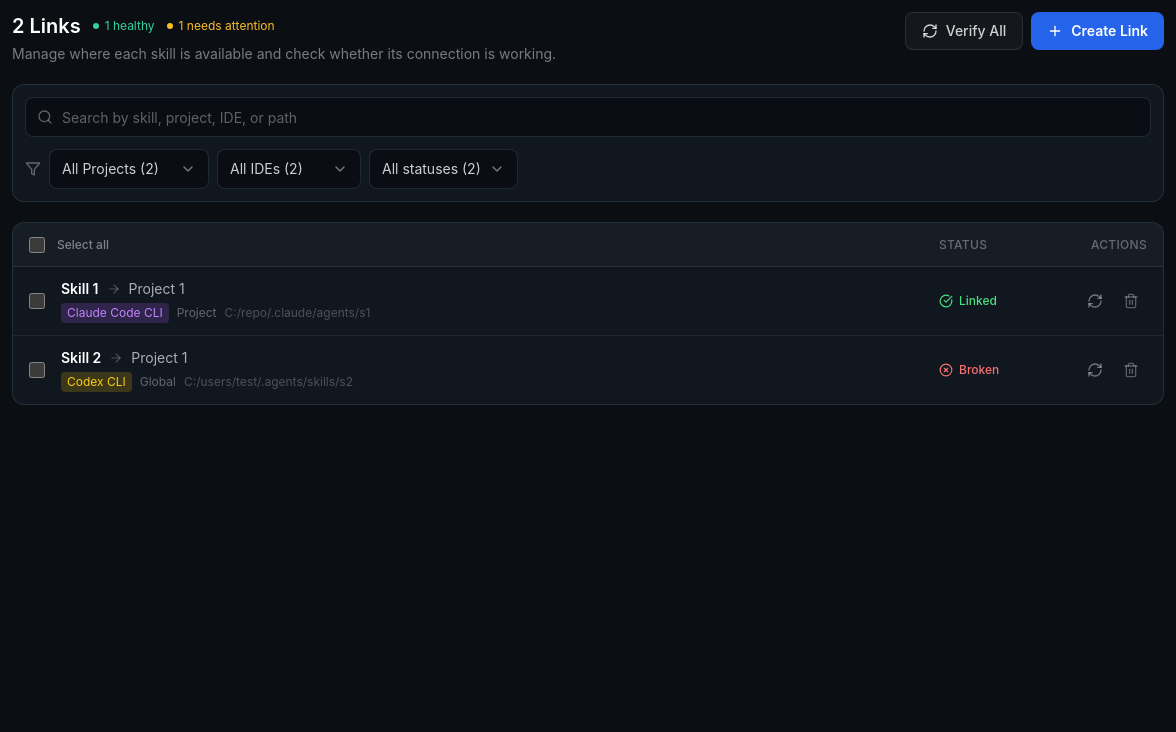
Scenario: LinksPage › loads links and verifies all links with user feedback
Expected: the heading "2 Links" is shown, [12,12,81,40]
Click the button "Verify All": (964, 31) [905,12,1023,50]
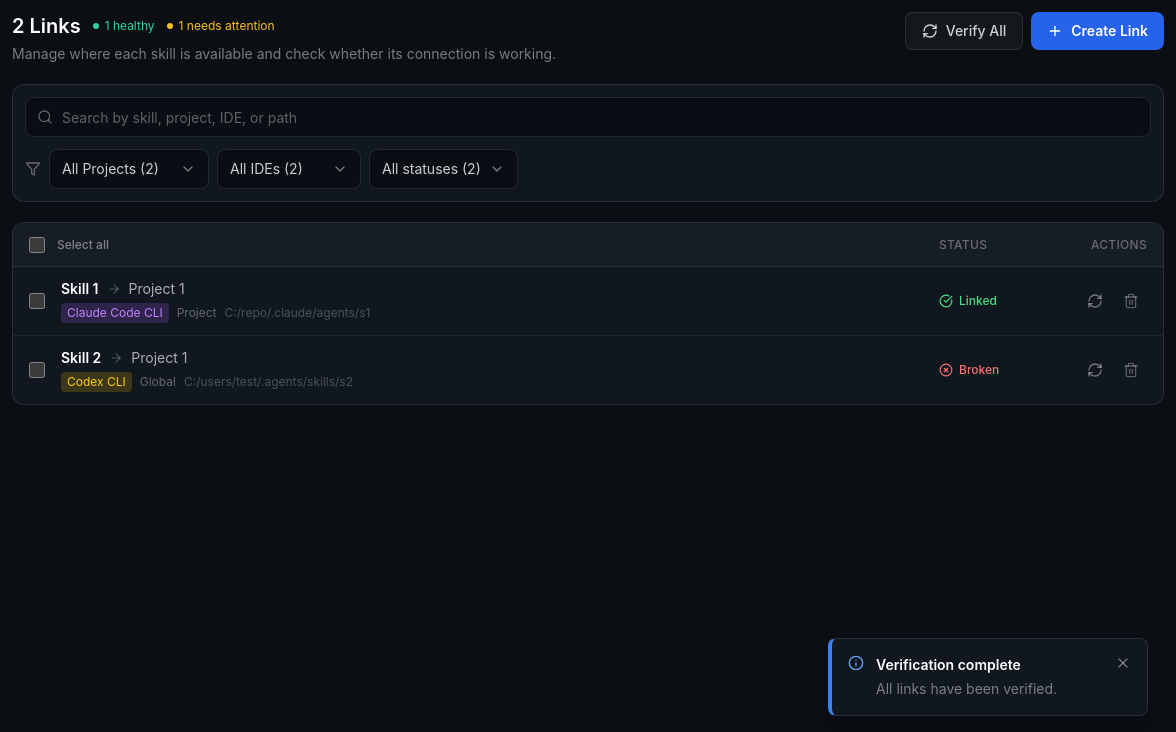
Expected: the text "Verification complete" is shown, [876,656,1021,673]
